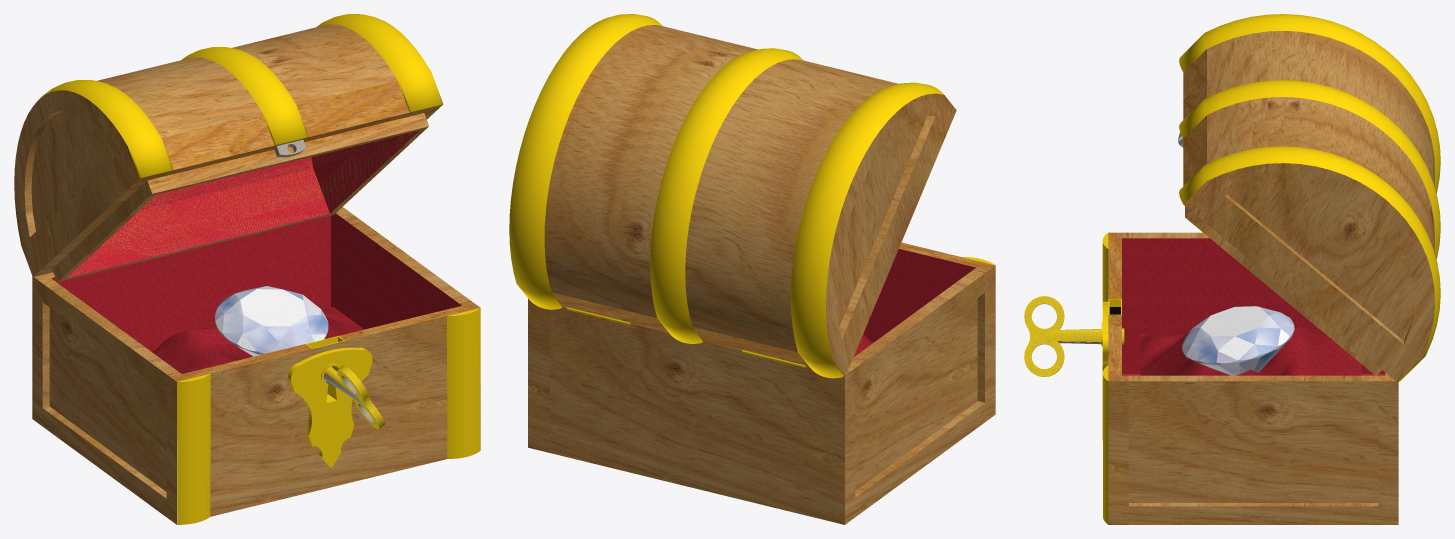
Rendered from Jewel Case.dae.
3 views of the same model, side by side, from view 1: azimuth 30°, elevation 25°; view 2: azimuth 150°, elevation 25°; view 3: azimuth 270°, elevation 25° (orthographic). The views are drawn at different scales.
Parts seen in each view (by area): view 1: scrigno (×4), group_3 (×2), costola_arcuata (×3), costola_dritta (×2), Diamond (×2), group_4, group_0; view 2: group_3, scrigno (×3), costola_arcuata (×3); view 3: scrigno (×2), group_3, costola_arcuata (×3), group_4, Diamond (×3), group_0, costola_dritta.
Part boxes in pixels (x1,y1,x2,y2): scrigno (×4): (32, 207, 480, 524); group_3 (×2): (14, 24, 442, 282); costola_arcuata (×3): (40, 14, 442, 178); costola_dritta (×2): (177, 308, 480, 524); Diamond (×2): (215, 286, 328, 355); group_4: (151, 307, 363, 373); group_0: (324, 365, 384, 429); group_3: (544, 25, 956, 375); scrigno (×3): (528, 242, 995, 524); costola_arcuata (×3): (509, 14, 943, 378); scrigno (×2): (1108, 232, 1398, 524); group_3: (1183, 31, 1434, 381); costola_arcuata (×3): (1179, 14, 1440, 381); group_4: (1140, 327, 1361, 375); Diamond (×3): (1182, 306, 1294, 375); group_0: (1024, 296, 1124, 376); costola_dritta: (1102, 365, 1108, 524).
Bounding box in the file's own units: 8.5 × 10.06 × 9.78.
Materials: 11 (5 with a texture image).
